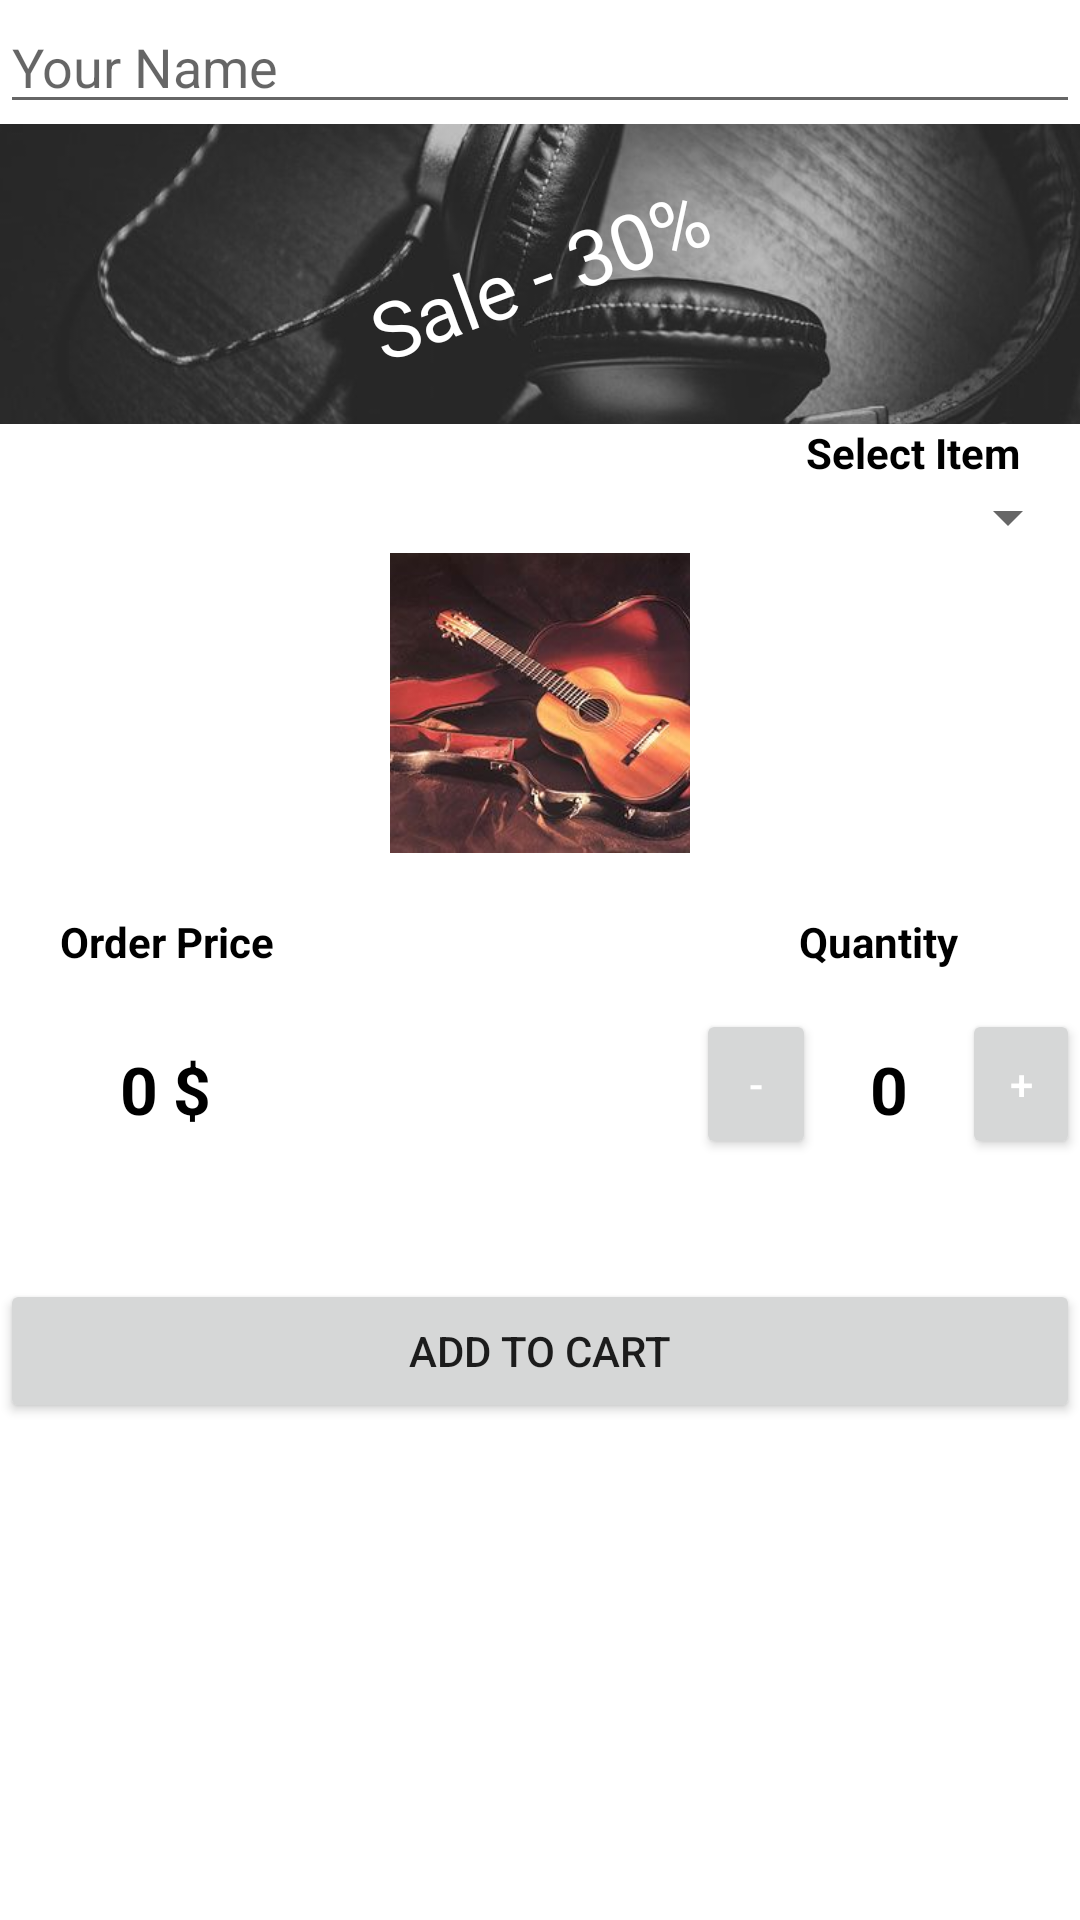

Named icons in this screenshot (1080*1920) and their centers, (x,y):
guitar: (540,703)
